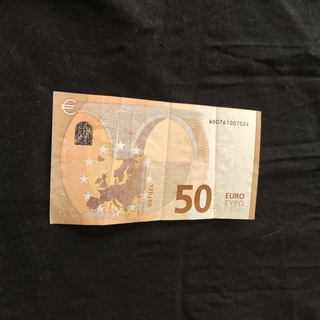50EUROBack: (49, 90, 262, 227)
